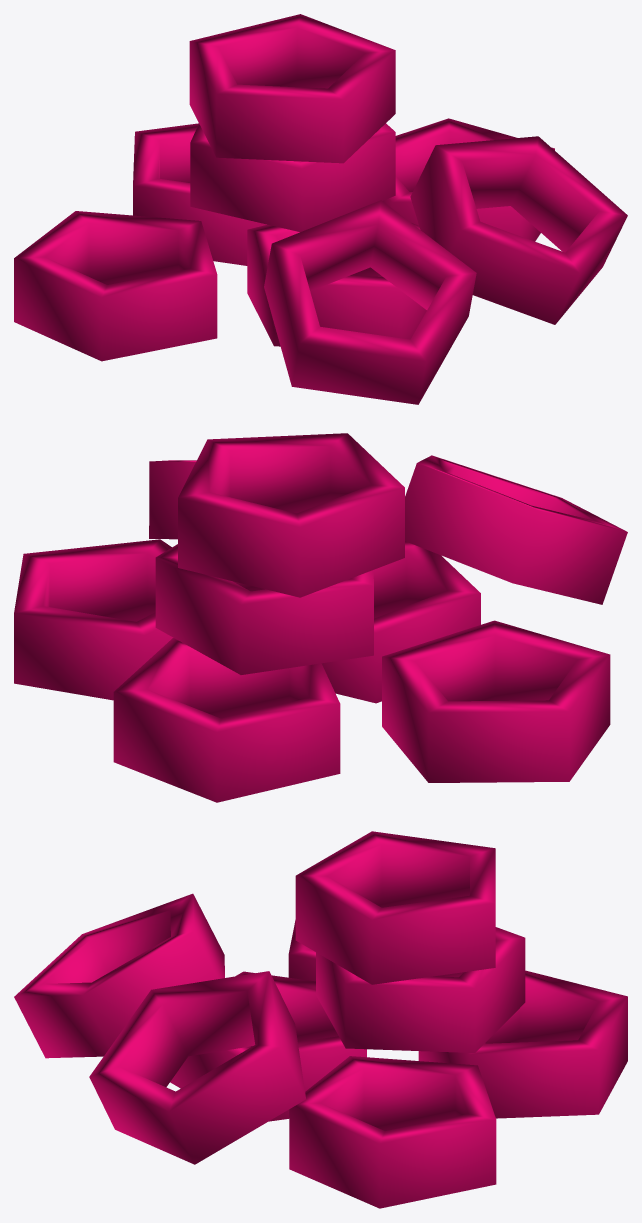
Rendered from Tire_Pile_01_Lod3.fbx.
3 views of the same model, one above another, from view 1: azimuth 30°, elevation 25°; view 2: azimuth 150°, elevation 25°; view 3: azimuth 270°, elevation 25° (orthographic). The views are drawn at different scales.
Parts seen in each view (by area): view 1: Tire_Pile_01_Lod3; view 2: Tire_Pile_01_Lod3; view 3: Tire_Pile_01_Lod3.
Boxes of the visible parts, x1,y1,x2,y2 form: Tire_Pile_01_Lod3: (14,14,627,404); Tire_Pile_01_Lod3: (14,433,627,802); Tire_Pile_01_Lod3: (14,831,627,1208).
Size of the model in its own units: 206 by 77.88 by 209.
